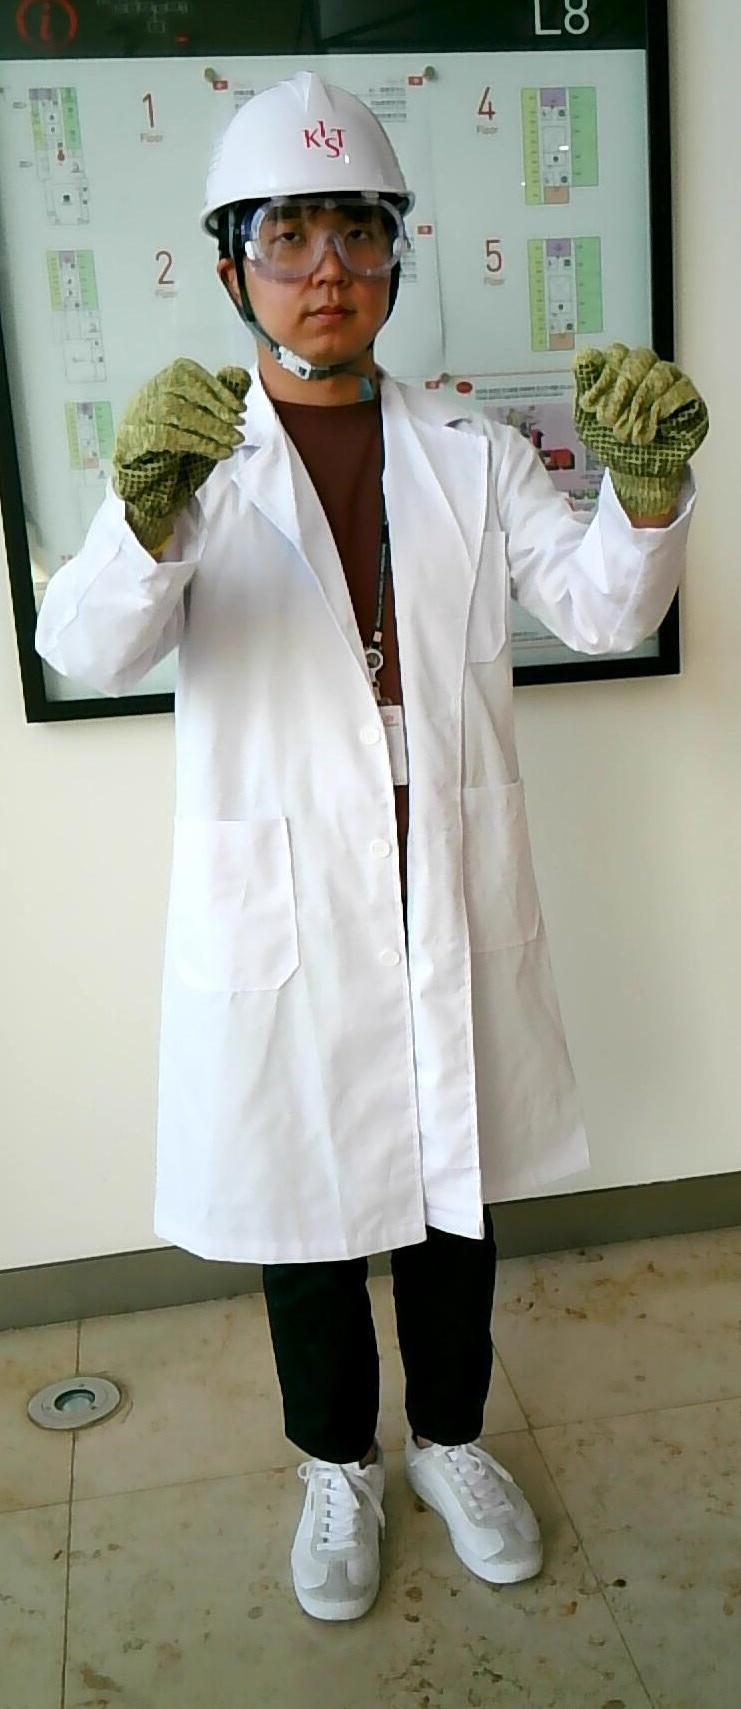lab_coat: (185, 489, 537, 1253)
